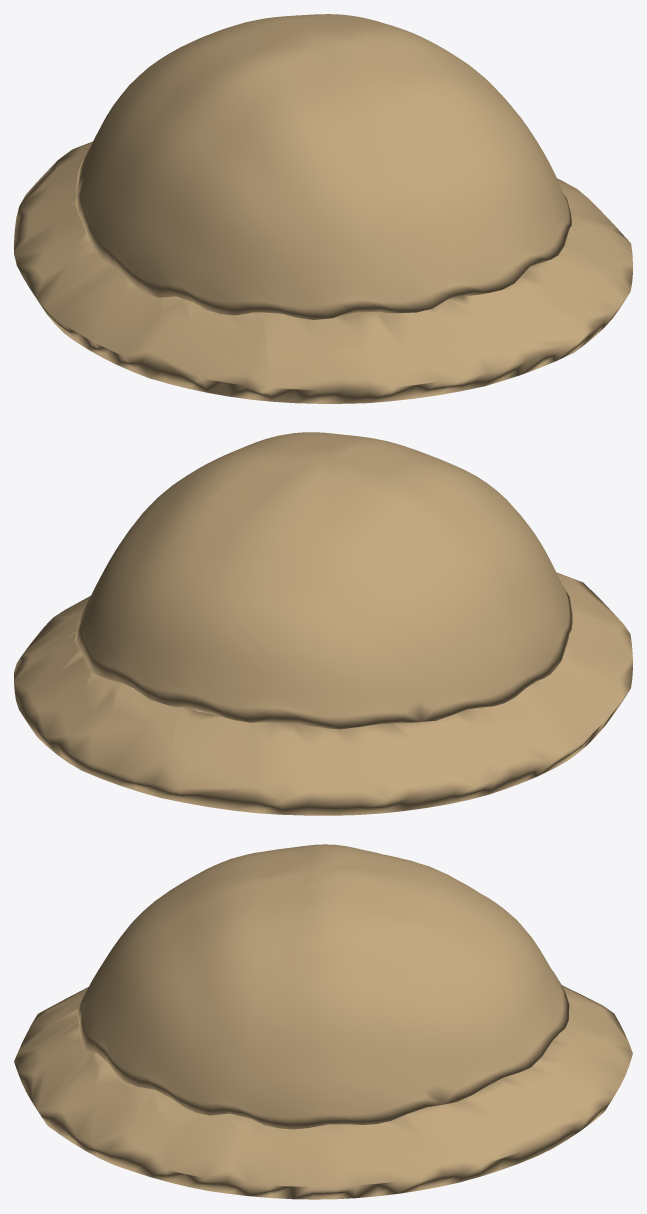
Rendered from 4HT-masculino.glb.
The picture shows the model from 3 angles, top to bottom: view 1: azimuth 30°, elevation 25°; view 2: azimuth 150°, elevation 25°; view 3: azimuth 270°, elevation 25°; orthographic projection. The views are drawn at different scales.
Parts seen in each view (by area): view 1: crown, shaped-brim; view 2: crown, shaped-brim; view 3: crown, shaped-brim.
Part boxes in pixels (<box>): crown: <box>76,14,571,319</box>; shaped-brim: <box>14,141,632,403</box>; crown: <box>75,432,572,729</box>; shaped-brim: <box>14,572,632,815</box>; crown: <box>76,844,569,1129</box>; shaped-brim: <box>14,985,632,1199</box>.
Size of the model in its own units: 0.0364 by 0.0156 by 0.0404.
